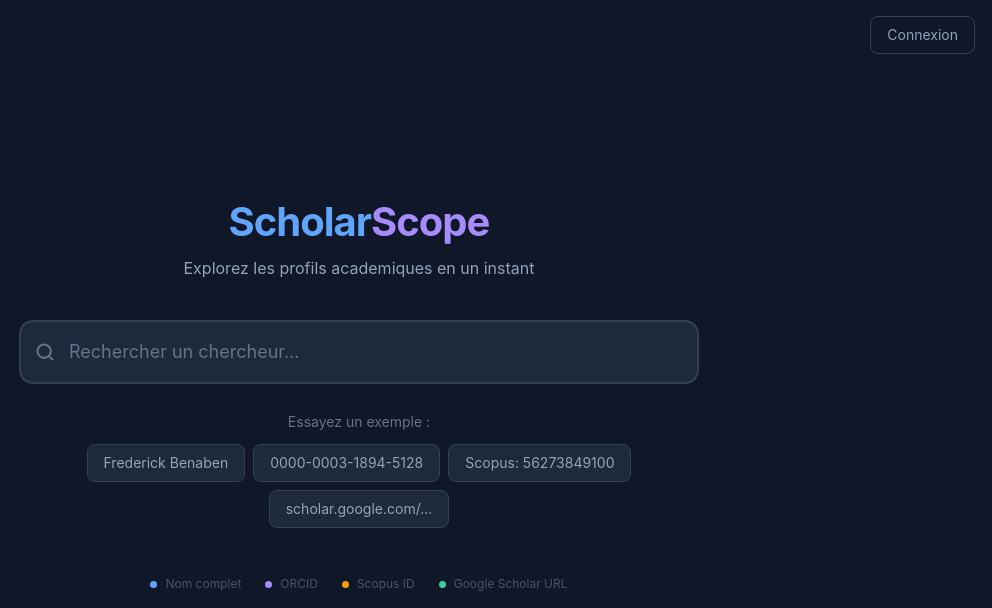
Test: US-1.4: Detection auto format — badge display › shows "Scopus ID detecte" badge when typing a Scopus ID
The width and height of the screenshot is (992, 608).
Type "56273849100" into the field with placeholder "Rechercher un chercheur...". click: (359, 352)
box: [19,320,699,384]
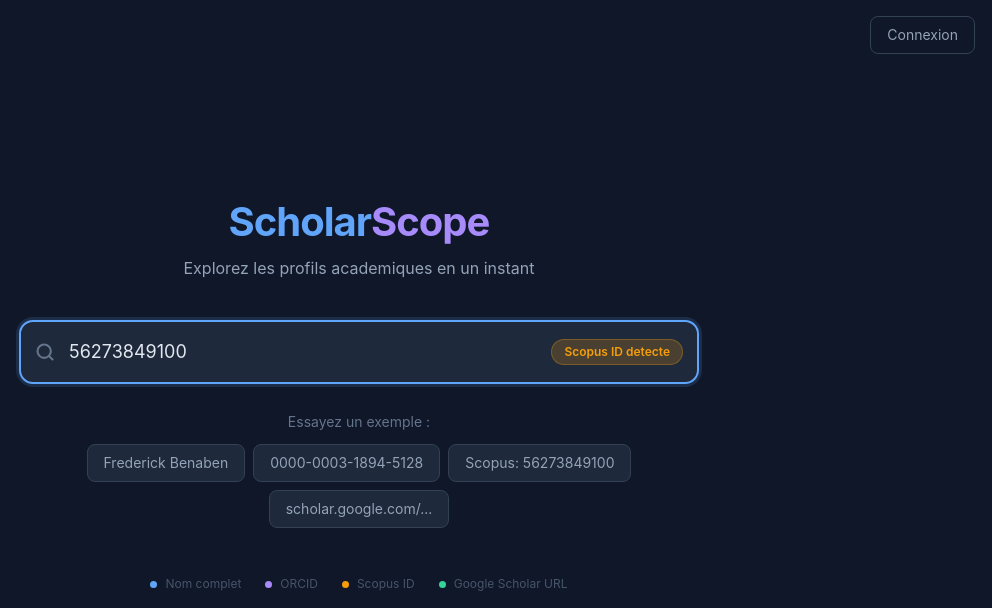
Check: the text with test id "format-badge" reads "Scopus ID detecte", box [564,344,670,359]
